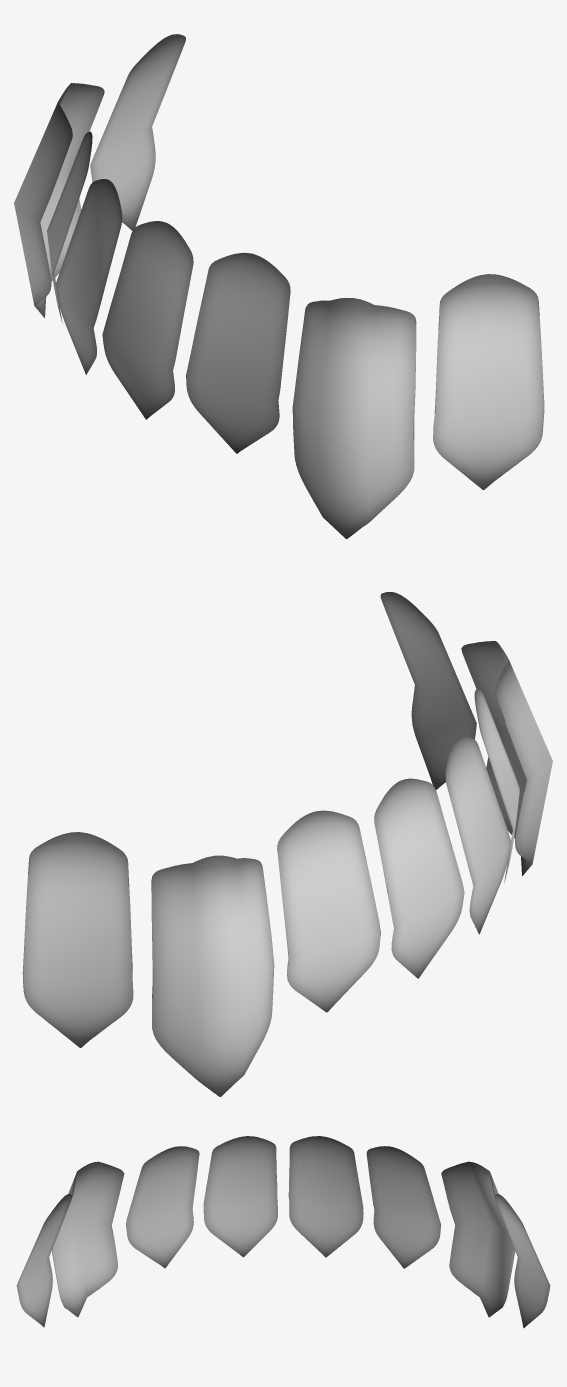
Rendered from EnemyGhost_TeethTop.fbx.
3 renders of one model, top to bottom at view 1: azimuth 30°, elevation 25°; view 2: azimuth 150°, elevation 25°; view 3: azimuth 270°, elevation 25°, orthographic. The views are drawn at different scales.
Parts seen in each view (by area): view 1: TeethTop; view 2: TeethTop; view 3: TeethTop.
Part boxes in pixels (bbox=[...]): TeethTop: bbox=[14, 34, 544, 538]; TeethTop: bbox=[22, 592, 552, 1096]; TeethTop: bbox=[16, 1136, 550, 1328].
Size of the model in its own units: 868 by 738 by 2149.
